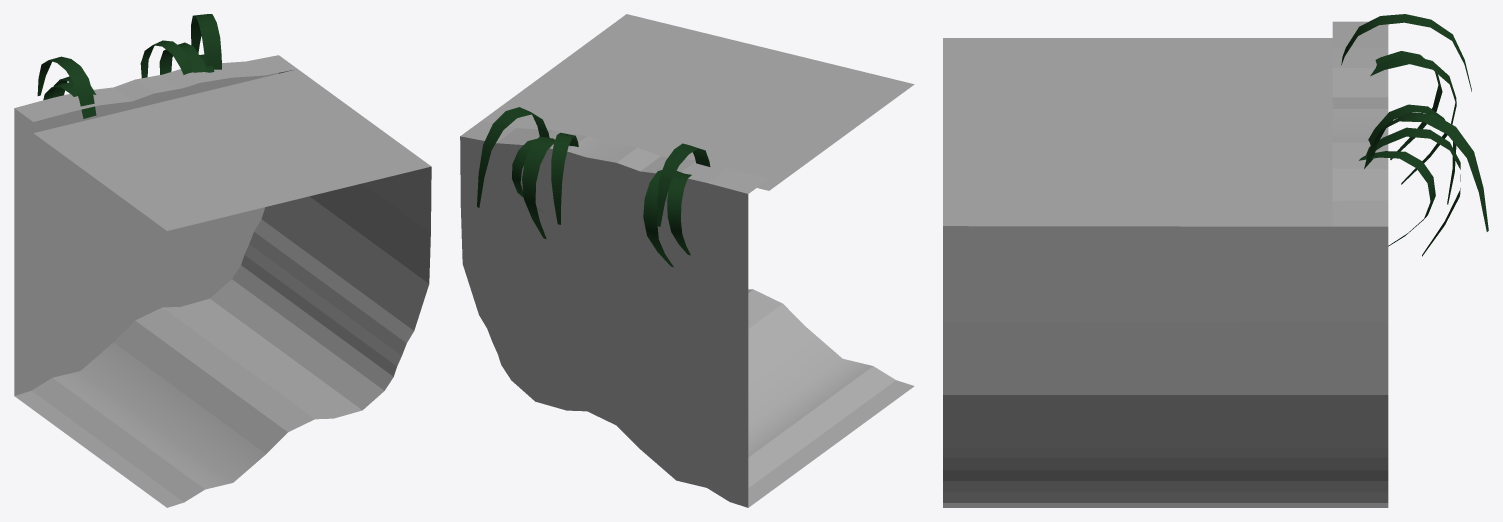
Rendered from Environment_Earth_Full_Left_Final_001.fbx.
The picture shows the model from 3 angles, left to right: view 1: azimuth 30°, elevation 25°; view 2: azimuth 150°, elevation 25°; view 3: azimuth 270°, elevation 25°; orthographic projection. The views are drawn at different scales.
Visible parts, largest first — view 1: Environment_Earth_Full_Left_003; view 2: Environment_Earth_Full_Left_003; view 3: Environment_Earth_Full_Left_003.
Part boxes in pixels (x1=…): Environment_Earth_Full_Left_003: x1=14, y1=14, x2=431, y2=507; Environment_Earth_Full_Left_003: x1=460, y1=14, x2=914, y2=507; Environment_Earth_Full_Left_003: x1=943, y1=14, x2=1488, y2=507.
Size of the model in its own units: 99.96 by 116 by 123.
